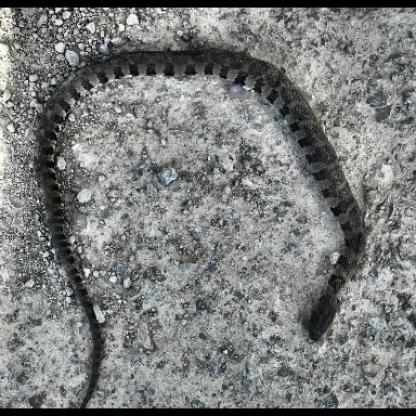Snake: (30, 44, 371, 345)
